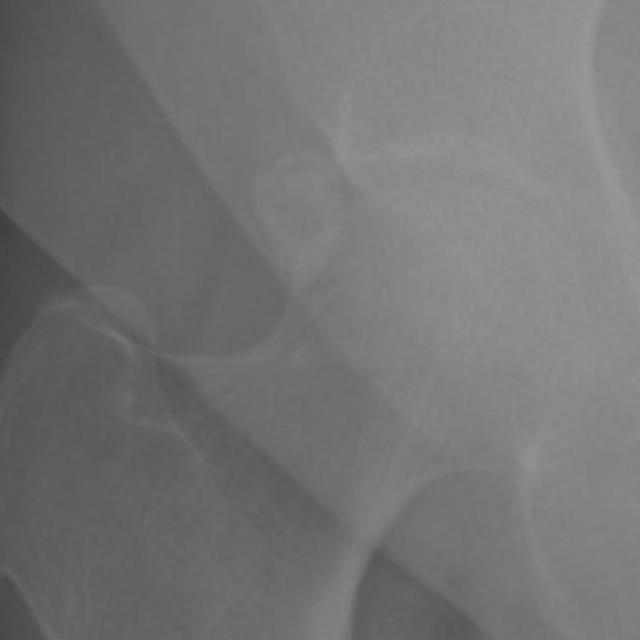Fitted_femural_head: (312, 183, 432, 312)
